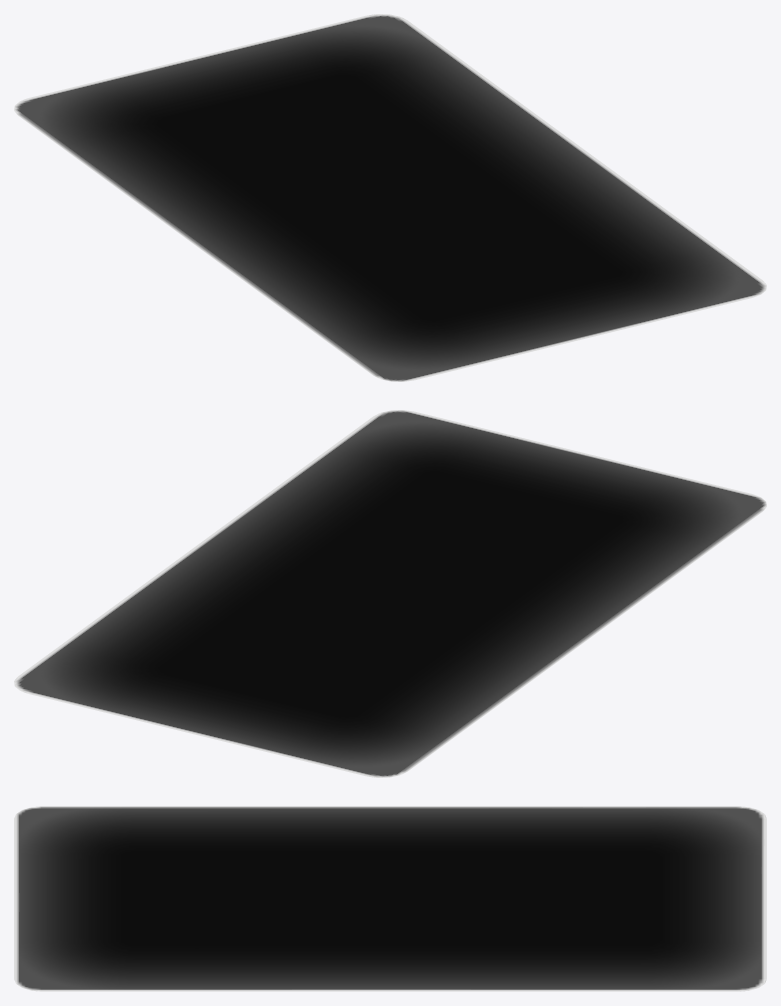
File: Holo_Cap_01.FBX
3 renders of one model, top to bottom at view 1: azimuth 30°, elevation 25°; view 2: azimuth 150°, elevation 25°; view 3: azimuth 270°, elevation 25°, orthographic. The views are drawn at different scales.
Visible parts, largest first — view 1: Holo_Cap_01; view 2: Holo_Cap_01; view 3: Holo_Cap_01.
Part boxes in pixels (box(x1,y1,x2,y2)): Holo_Cap_01: box(14, 14, 766, 381); Holo_Cap_01: box(14, 410, 766, 777); Holo_Cap_01: box(14, 806, 766, 991).
Bounding box in the file's own units: 3.5 × 5.3e-07 × 6.
1 material, 1 textured.
